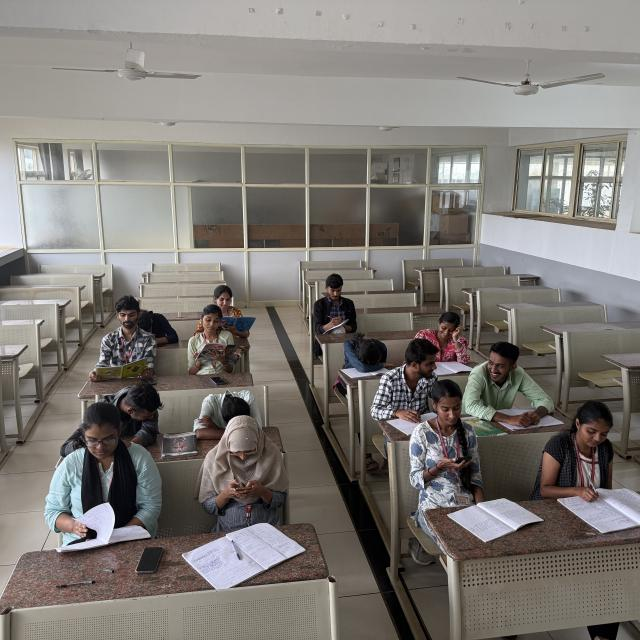Reading: (50, 409, 164, 552), (86, 299, 156, 385), (186, 304, 237, 370), (204, 283, 256, 335)
Sleeping: (196, 386, 270, 439), (343, 331, 398, 377), (135, 306, 180, 347)
Using Phone: (194, 414, 288, 522), (420, 377, 491, 495)
Writing: (542, 396, 640, 516), (312, 274, 358, 336)
